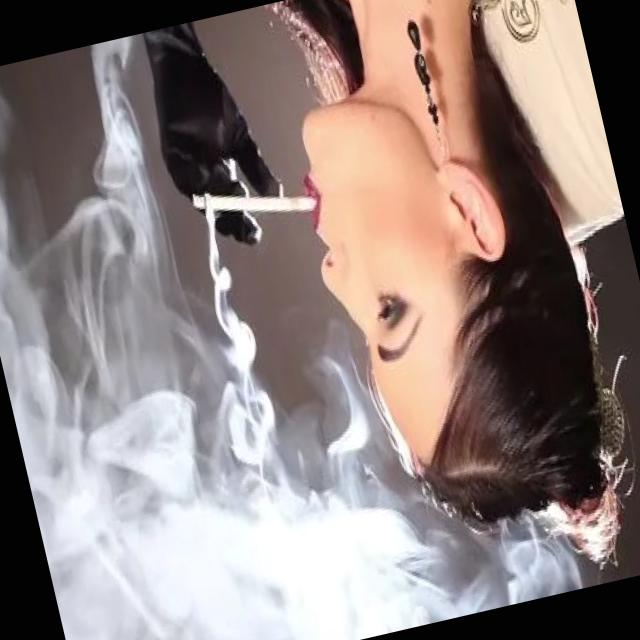smoke: (188, 162, 322, 240)
